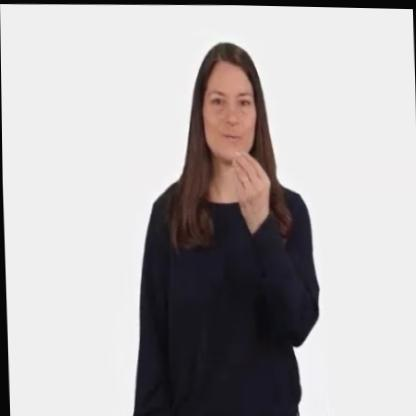Food: (119, 30, 326, 416)
